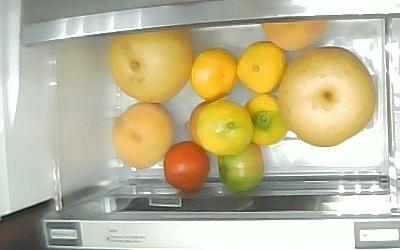peach: (113, 102, 174, 168), (260, 19, 328, 51)
pear: (278, 46, 374, 147), (109, 29, 193, 102)
tangerine: (197, 99, 253, 155), (237, 40, 287, 94), (190, 48, 237, 101), (244, 95, 287, 147)
tomato: (163, 140, 209, 192), (218, 142, 264, 193)
